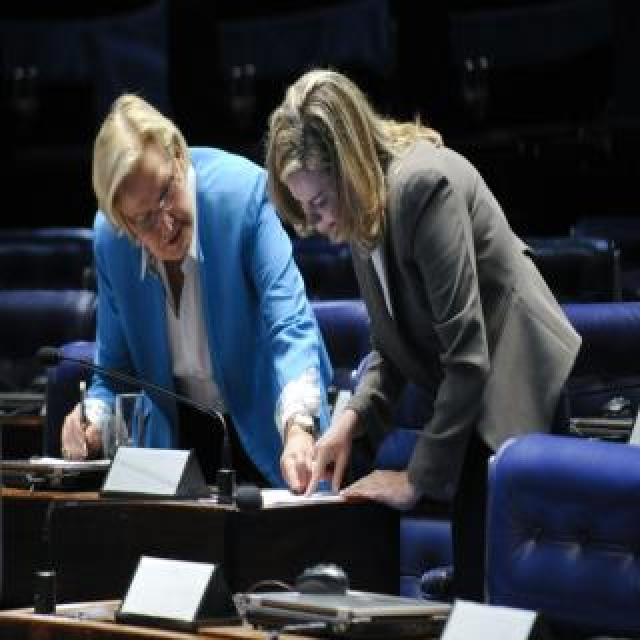laptop_computer: (238, 585, 487, 640), (3, 452, 120, 497)
